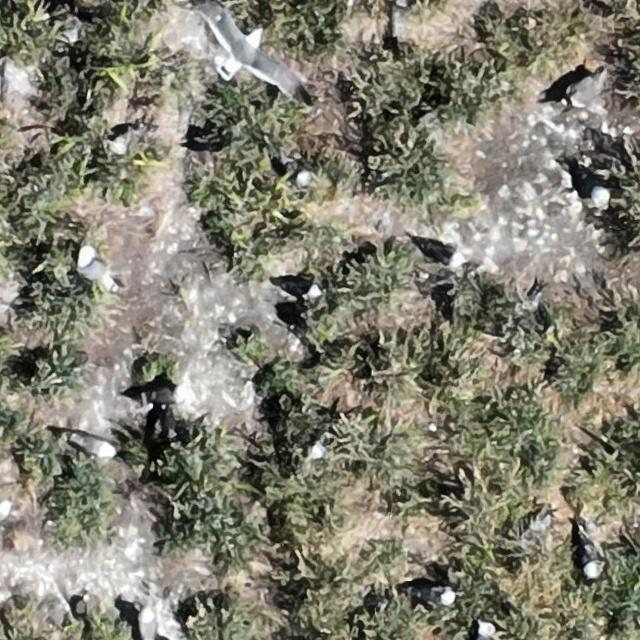F: (191, 5, 300, 98)
umineko: (568, 164, 612, 207), (78, 246, 114, 289), (137, 382, 194, 406), (274, 161, 316, 185), (420, 241, 460, 264), (72, 435, 114, 456), (277, 280, 315, 298), (570, 76, 598, 100), (423, 586, 455, 605), (310, 434, 329, 458), (138, 610, 154, 638), (476, 621, 496, 639), (584, 558, 600, 580), (0, 501, 10, 524)
